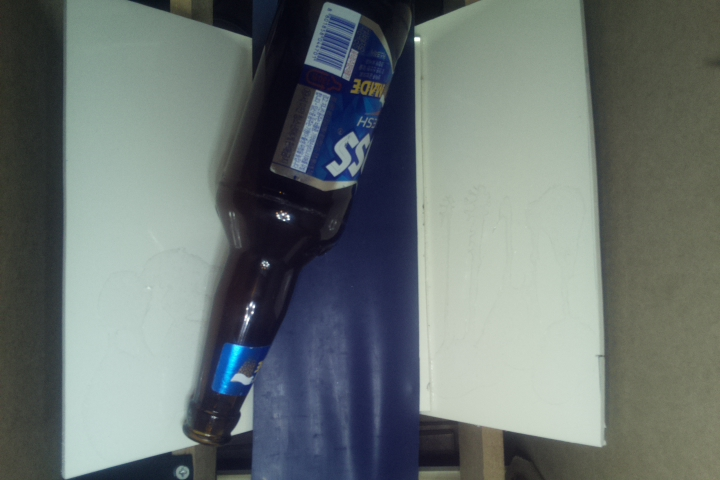makju: (179, 1, 418, 452)
